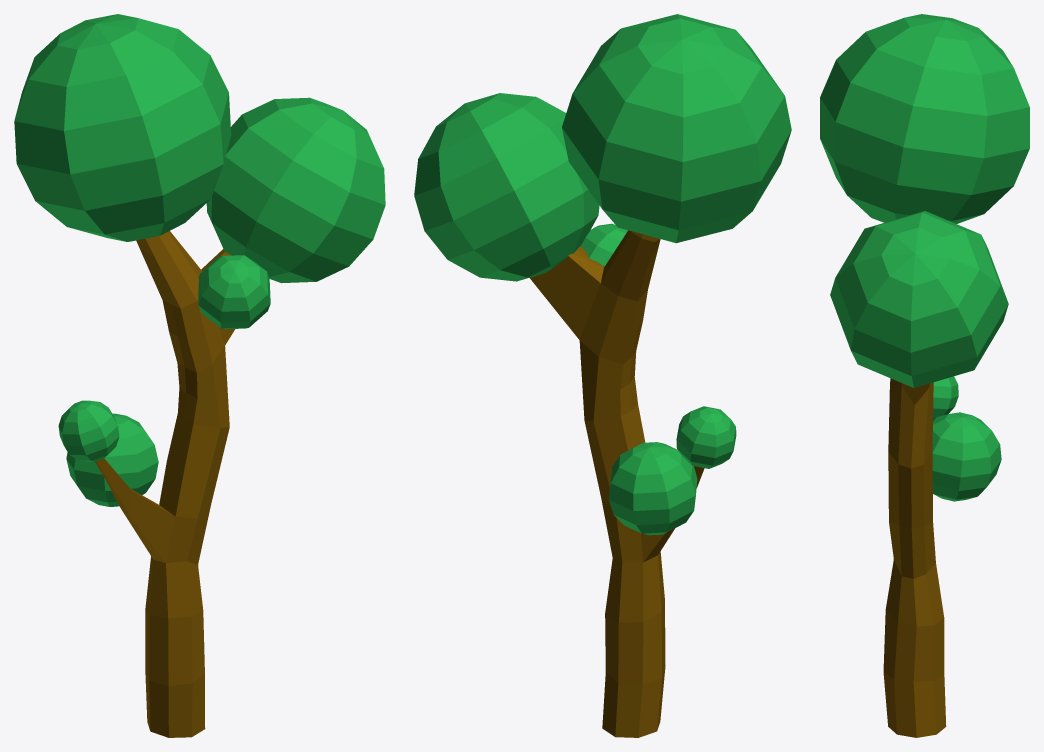
File: tree.obj
3 views of the same model, side by side, from view 1: azimuth 30°, elevation 25°; view 2: azimuth 150°, elevation 25°; view 3: azimuth 270°, elevation 25° (orthographic). The views are drawn at different scales.
Parts seen in each view (by area): view 1: Sphere.001; view 2: Sphere.001; view 3: Sphere.001.
Boxes of the visible parts, left/top/right/bottom form: Sphere.001: left=14, top=14, right=385, bottom=737; Sphere.001: left=414, top=14, right=791, bottom=737; Sphere.001: left=820, top=14, right=1029, bottom=737.
Size of the model in its own units: 12.7 by 25.02 by 7.02.
